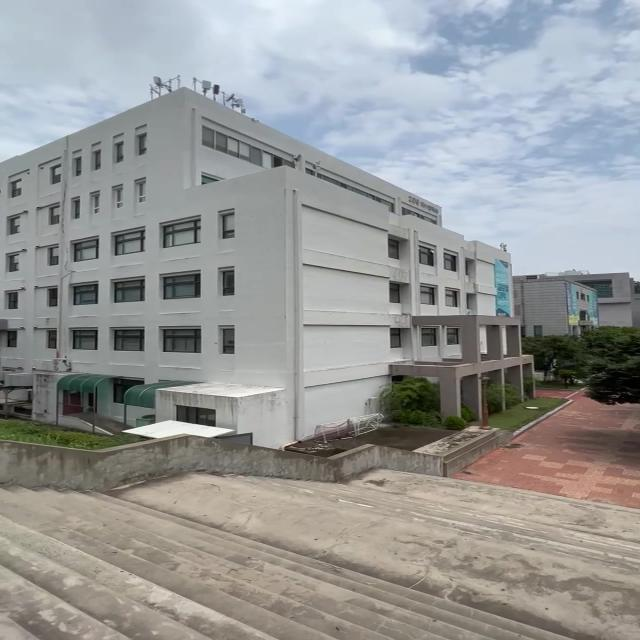building: (13, 90, 567, 422)
